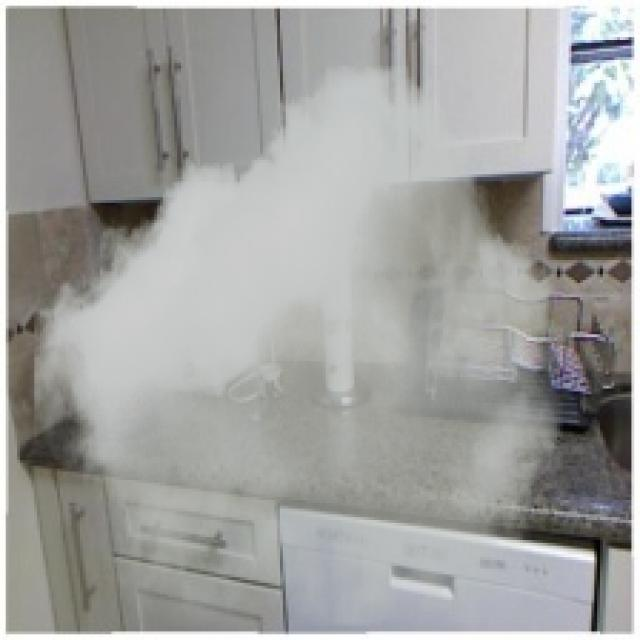smoke: (34, 65, 563, 626)
